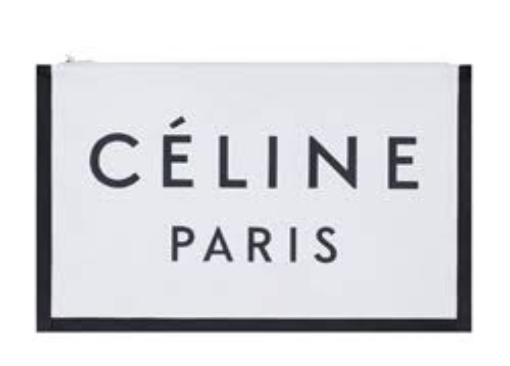CELINE: (85, 109, 424, 204)
